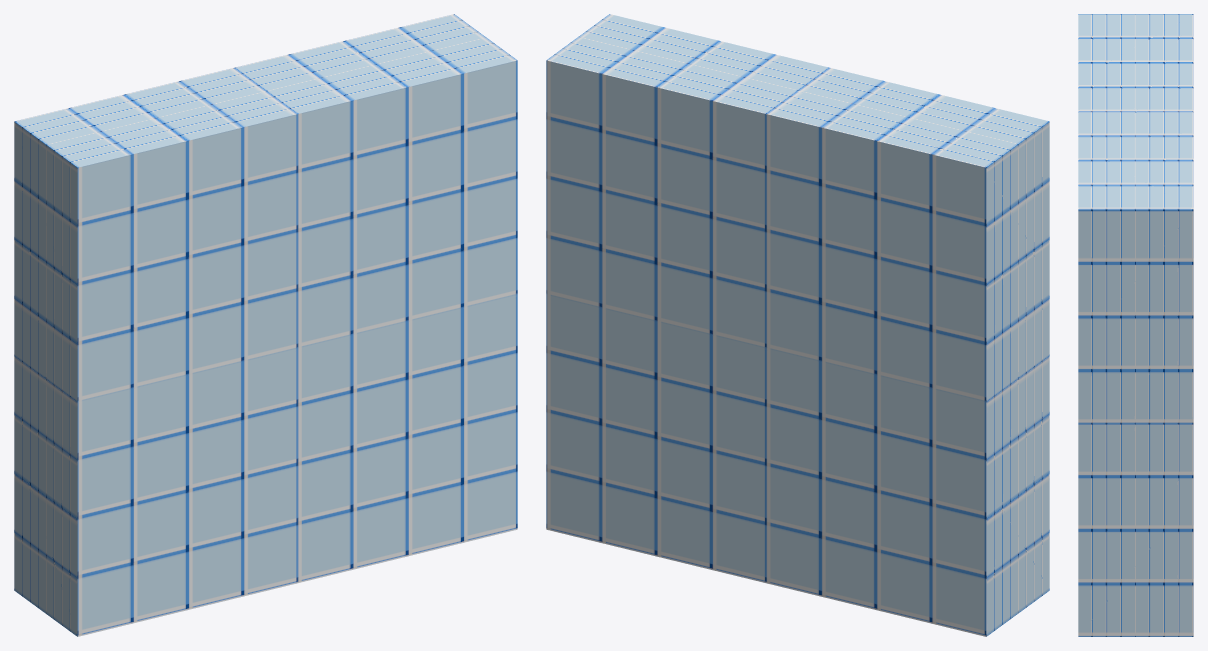
The model's file is lv03-celula-ring.obj.
3 views of the same model, side by side, from view 1: azimuth 30°, elevation 25°; view 2: azimuth 150°, elevation 25°; view 3: azimuth 270°, elevation 25° (orthographic). The views are drawn at different scales.
Parts seen in each view (by area): view 1: Object.1; view 2: Object.1; view 3: Object.1.
Boxes of the visible parts, box(x1,y1,x2,y2) form: Object.1: box(14, 14, 517, 636); Object.1: box(546, 14, 1049, 636); Object.1: box(1078, 14, 1193, 636).
Size of the model in its own units: 81.4 by 82.92 by 20.32.
1 material, 1 textured.
